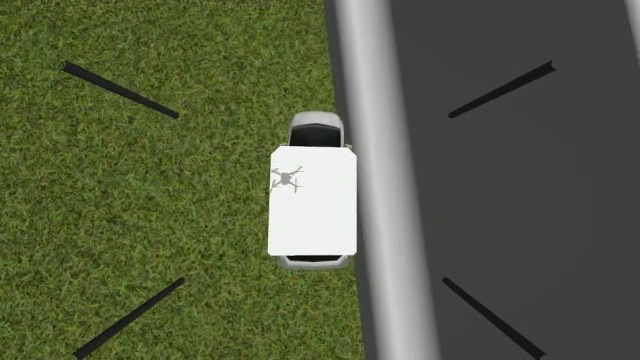Car: (267, 111, 357, 270)
